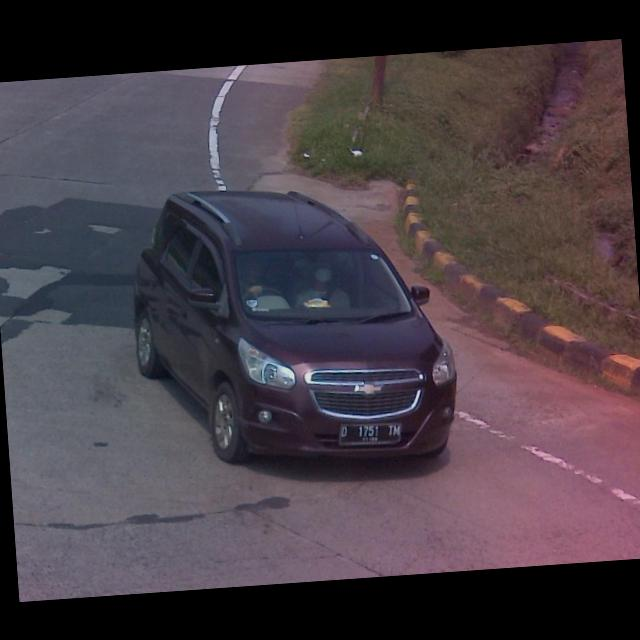plate: (336, 419, 404, 449)
